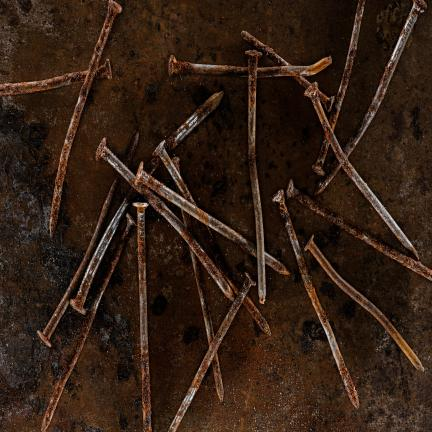karat: (169, 51, 331, 303), (273, 181, 431, 407), (50, 0, 121, 236), (343, 0, 426, 156), (136, 172, 256, 255), (137, 204, 151, 431), (0, 71, 87, 95)
